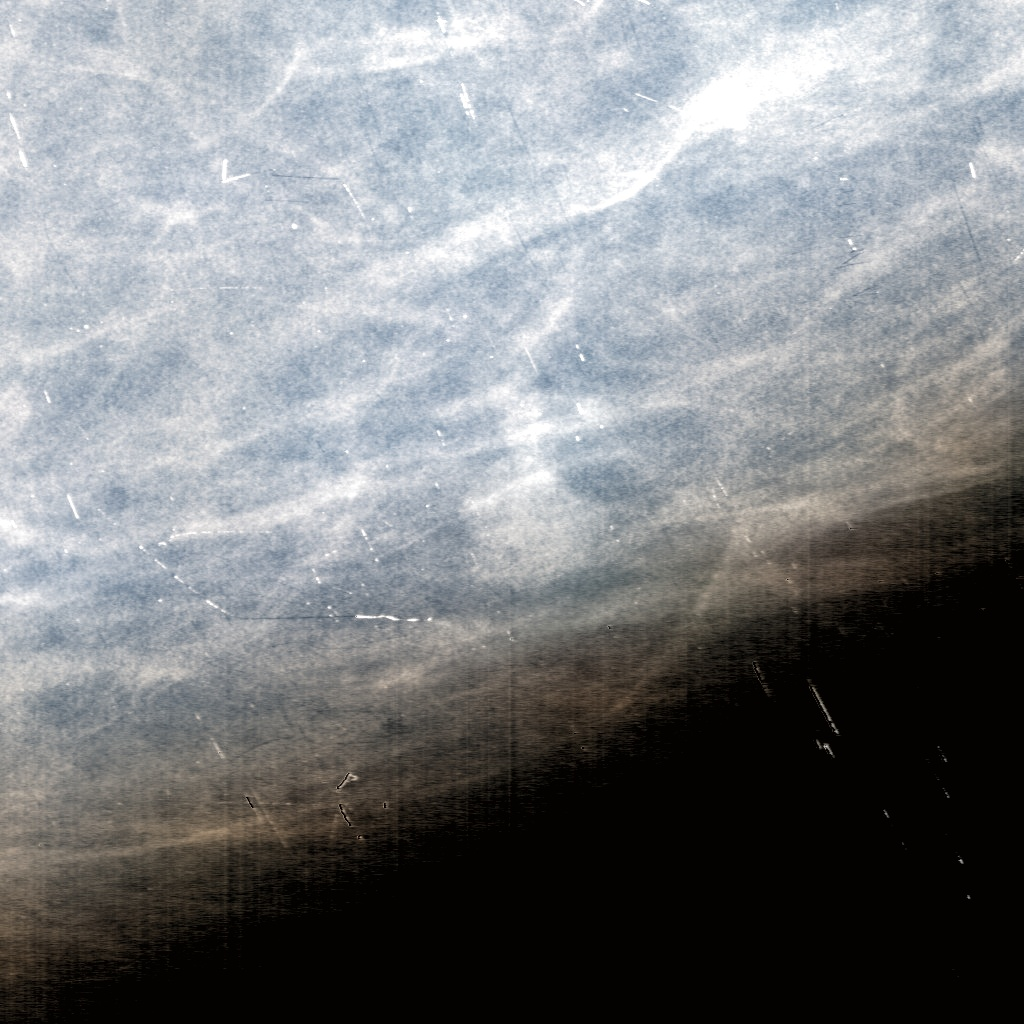tumor: (412, 421, 612, 603)
